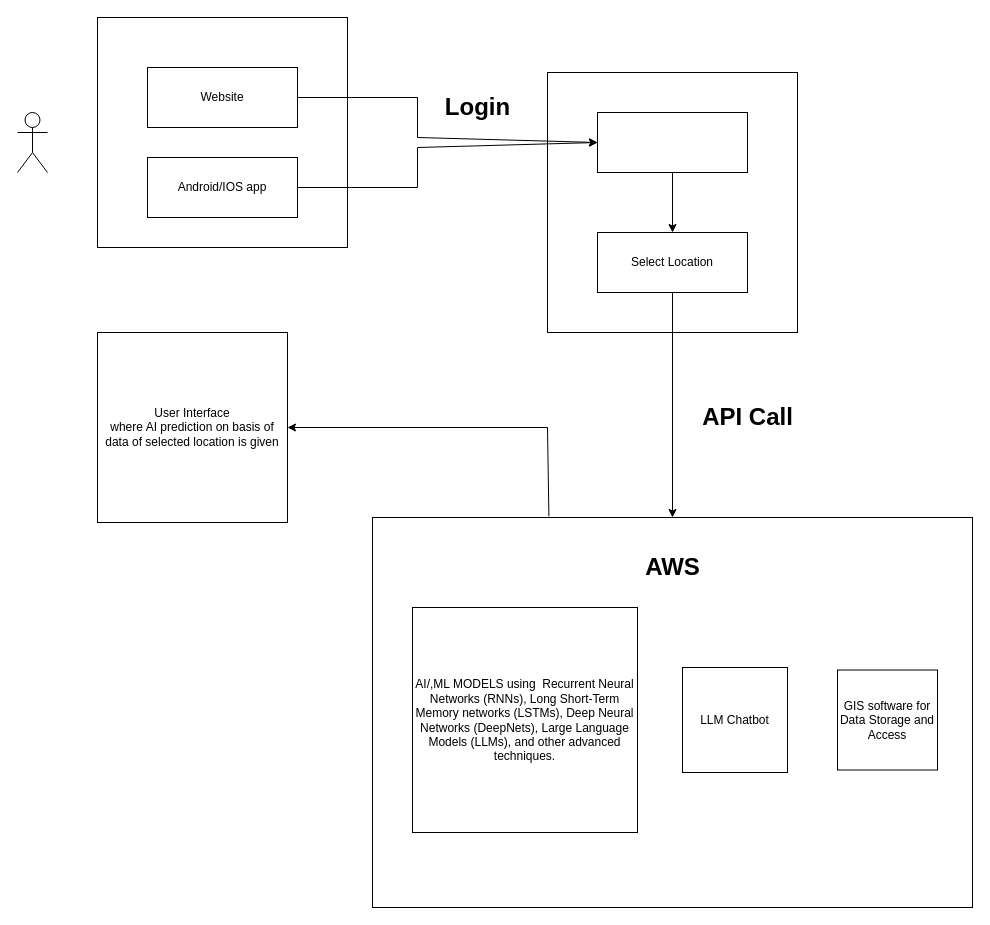
Image size: 990x925. Some labels were removed from this diagram. Each missing label, with the centre of its shape:
Actor: (x=32, y=142)
Interactive Map Page: (x=672, y=142)
